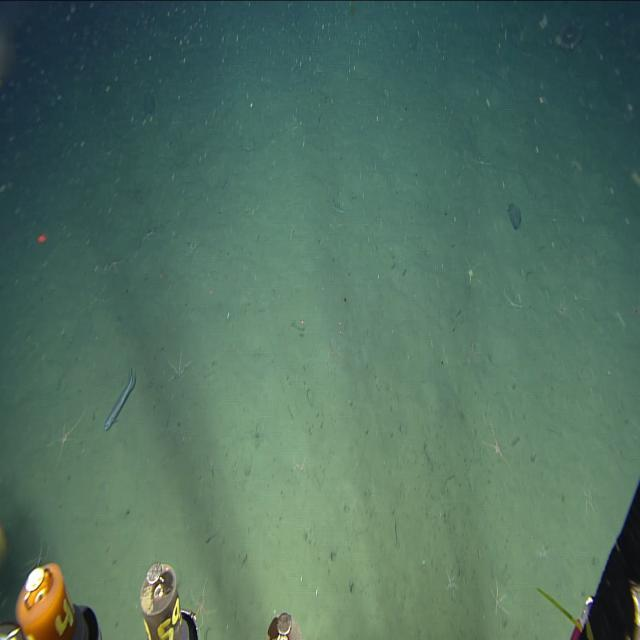Brittle Star: (43, 401, 92, 472), (478, 410, 520, 476), (186, 570, 220, 631), (163, 345, 195, 389), (486, 574, 514, 624), (459, 251, 484, 290)
Not Brittle Star: (101, 361, 139, 435), (554, 14, 587, 54), (506, 197, 523, 232)
